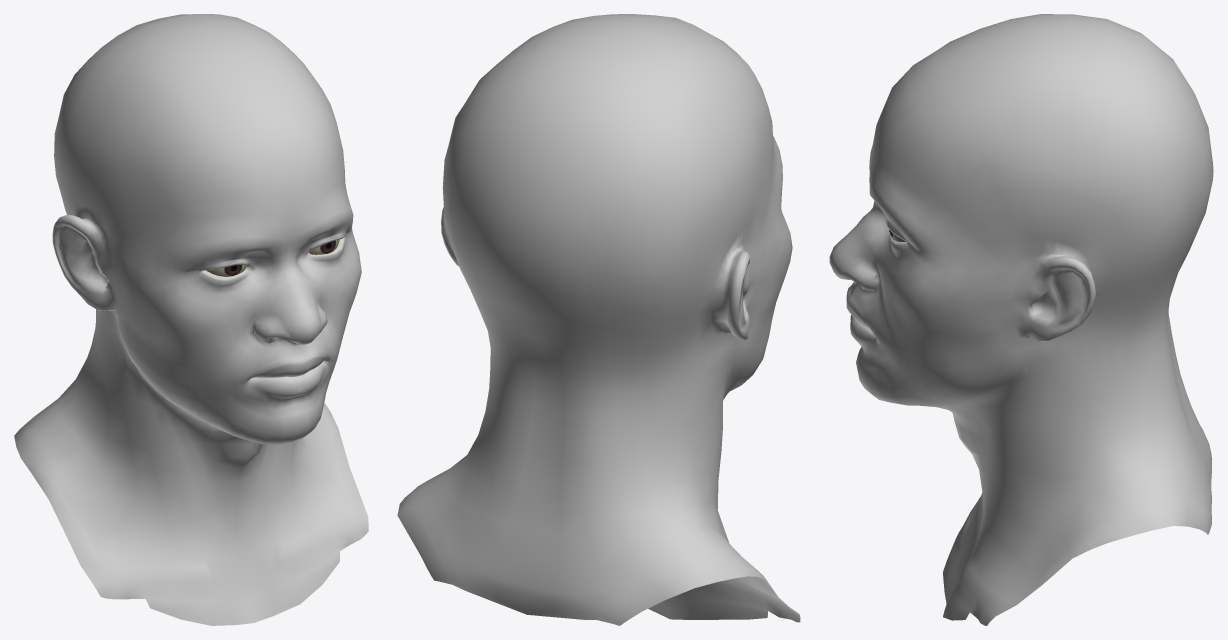
The model's file is head_asian001.fbx.
The picture shows the model from 3 angles, left to right: view 1: azimuth 30°, elevation 25°; view 2: azimuth 150°, elevation 25°; view 3: azimuth 270°, elevation 25°; orthographic projection. The views are drawn at different scales.
Parts seen in each view (by area): view 1: head_asian001; view 2: head_asian001; view 3: head_asian001.
Boxes of the visible parts, box(x1,y1,x2,y2) form: head_asian001: box(14, 14, 368, 625); head_asian001: box(397, 14, 800, 625); head_asian001: box(829, 14, 1213, 625).
Size of the model in its own units: 19.27 by 34.82 by 21.1.
